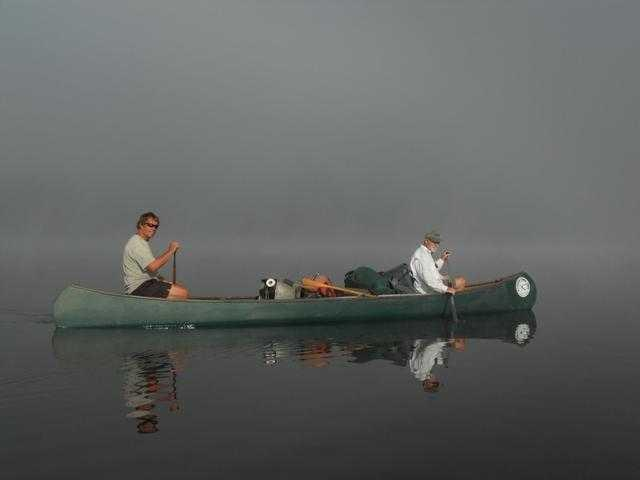kayak: (54, 269, 539, 329)
